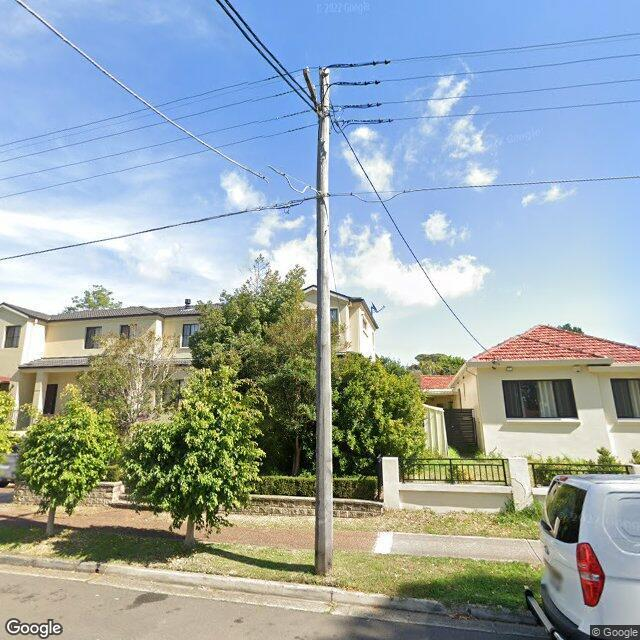crossarm: (302, 68, 322, 116)
timber-pole: (315, 66, 333, 580)
